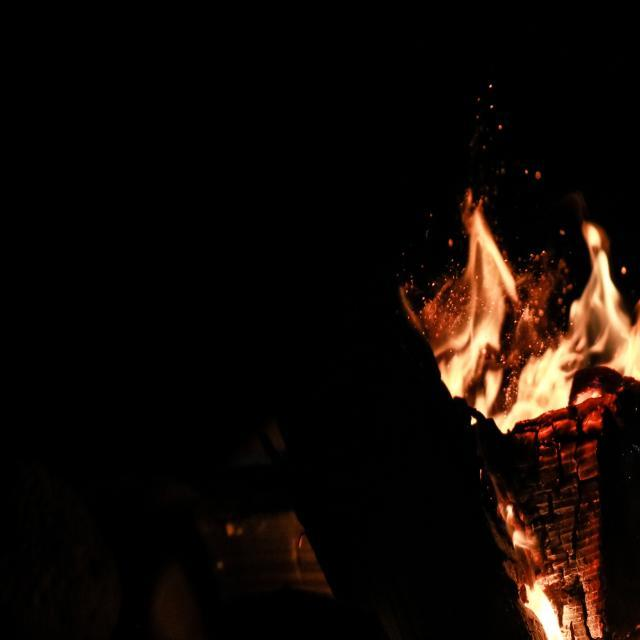Fire: (398, 187, 640, 435), (524, 578, 562, 640), (496, 495, 536, 553)
